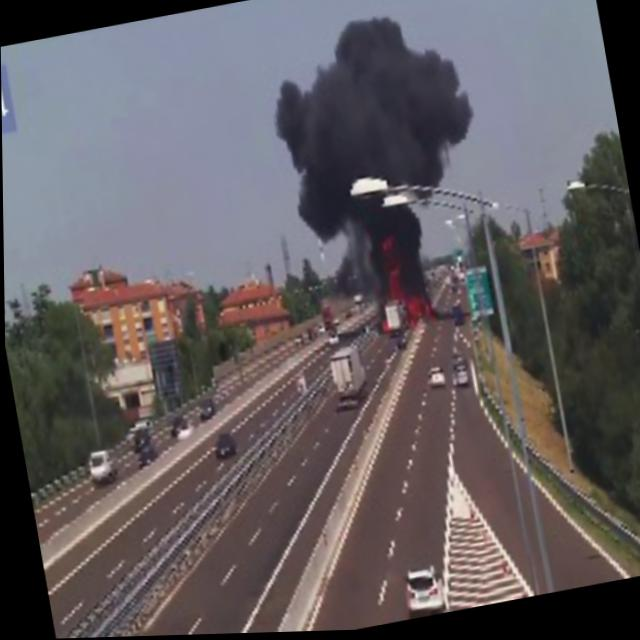fire: (376, 244, 403, 304), (407, 300, 438, 325)
smoke: (259, 0, 489, 197), (292, 187, 351, 244), (394, 210, 425, 297), (349, 198, 383, 245)
